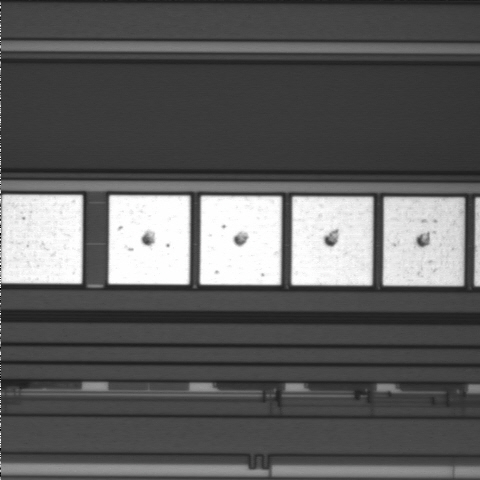pad: (108, 195, 190, 285), (200, 196, 282, 285), (291, 197, 373, 285), (383, 197, 464, 286)
